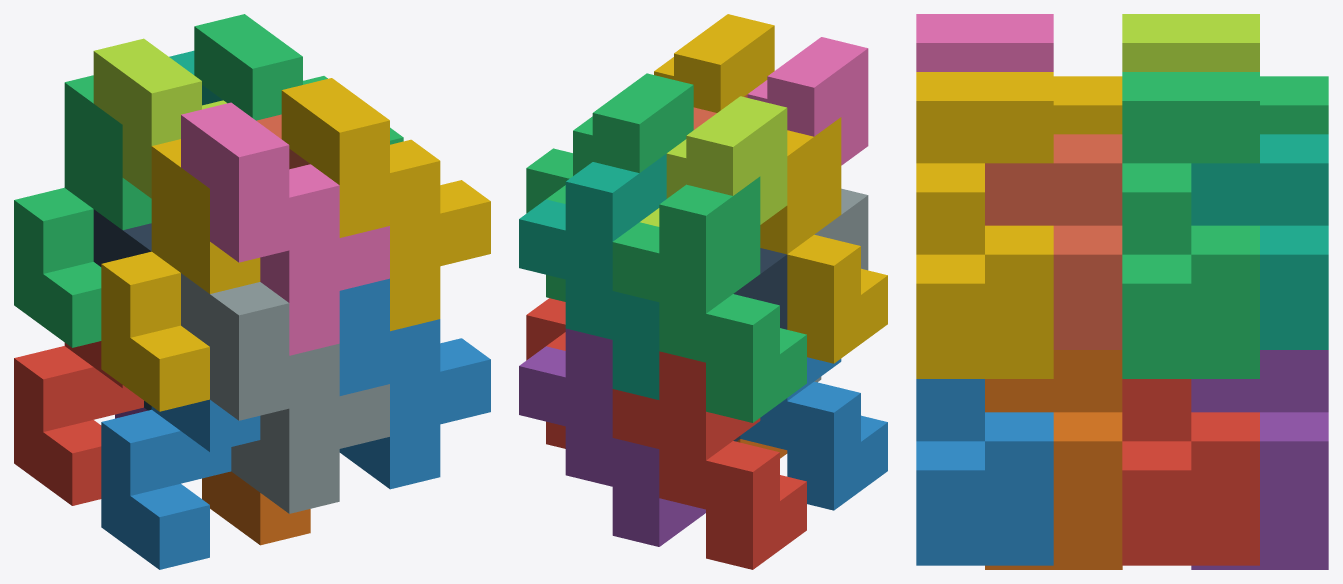
The model's file is tiling.obj.
The picture shows the model from 3 angles, left to right: view 1: azimuth 30°, elevation 25°; view 2: azimuth 150°, elevation 25°; view 3: azimuth 270°, elevation 25°; orthographic projection. The views are drawn at different scales.
Visible parts, largest first — view 1: copy_2_domain_2, copy_2_domain_4, copy_2_domain_8, copy_1_domain_4, copy_1_domain_3, copy_2_domain_6, copy_1_domain_2, copy_1_domain_1, copy_2_domain_3, copy_2_domain_7, copy_1_domain_6, copy_2_domain_1; view 2: copy_1_domain_3, copy_1_domain_1, copy_1_domain_7, copy_1_domain_4, copy_1_domain_5, copy_1_domain_2, copy_2_domain_7, copy_2_domain_3, copy_2_domain_4, copy_2_domain_8, copy_2_domain_5, copy_2_domain_1 (+1 smaller); view 3: copy_2_domain_7, copy_2_domain_8, copy_2_domain_5, copy_2_domain_6, copy_1_domain_8, copy_1_domain_7, copy_1_domain_6, copy_1_domain_5, copy_2_domain_3, copy_2_domain_4, copy_1_domain_4, copy_1_domain_3.
Part boxes in pixels (left/top/right/bottom): copy_2_domain_2: left=181, top=273, right=389, bottom=513; copy_2_domain_4: left=181, top=102, right=389, bottom=355; copy_2_domain_8: left=281, top=78, right=490, bottom=331; copy_1_domain_4: left=101, top=139, right=260, bottom=411; copy_1_domain_3: left=14, top=75, right=151, bottom=347; copy_2_domain_6: left=339, top=278, right=490, bottom=489; copy_1_domain_2: left=101, top=399, right=260, bottom=569; copy_1_domain_1: left=14, top=341, right=143, bottom=505; copy_2_domain_3: left=93, top=38, right=226, bottom=198; copy_2_domain_7: left=194, top=14, right=403, bottom=144; copy_1_domain_6: left=202, top=471, right=310, bottom=545; copy_2_domain_1: left=93, top=209, right=151, bottom=410; copy_1_domain_3: left=612, top=176, right=806, bottom=422; copy_1_domain_1: left=612, top=351, right=806, bottom=569; copy_1_domain_7: left=519, top=153, right=666, bottom=399; copy_1_domain_4: left=760, top=117, right=887, bottom=363; copy_1_domain_5: left=519, top=328, right=705, bottom=546; copy_1_domain_2: left=740, top=357, right=887, bottom=510; copy_2_domain_7: left=526, top=73, right=693, bottom=301; copy_2_domain_3: left=640, top=96, right=787, bottom=226; copy_2_domain_4: left=747, top=37, right=868, bottom=165; copy_2_domain_8: left=654, top=14, right=774, bottom=112; copy_2_domain_5: left=526, top=298, right=565, bottom=448; copy_2_domain_1: left=733, top=248, right=787, bottom=441; copy_2_domain_7: left=1122, top=72, right=1259, bottom=378; copy_2_domain_8: left=916, top=72, right=1053, bottom=378; copy_2_domain_5: left=1122, top=379, right=1259, bottom=565; copy_2_domain_6: left=916, top=379, right=1053, bottom=565; copy_1_domain_8: left=985, top=134, right=1122, bottom=349; copy_1_domain_7: left=1191, top=134, right=1328, bottom=349; copy_1_domain_6: left=985, top=350, right=1122, bottom=569; copy_1_domain_5: left=1191, top=350, right=1328, bottom=569; copy_2_domain_3: left=1122, top=14, right=1259, bottom=71; copy_2_domain_4: left=916, top=14, right=1053, bottom=71; copy_1_domain_4: left=1053, top=76, right=1122, bottom=134; copy_1_domain_3: left=1260, top=76, right=1328, bottom=134.
Bounding box in the file's own units: 6 × 8 × 6.
